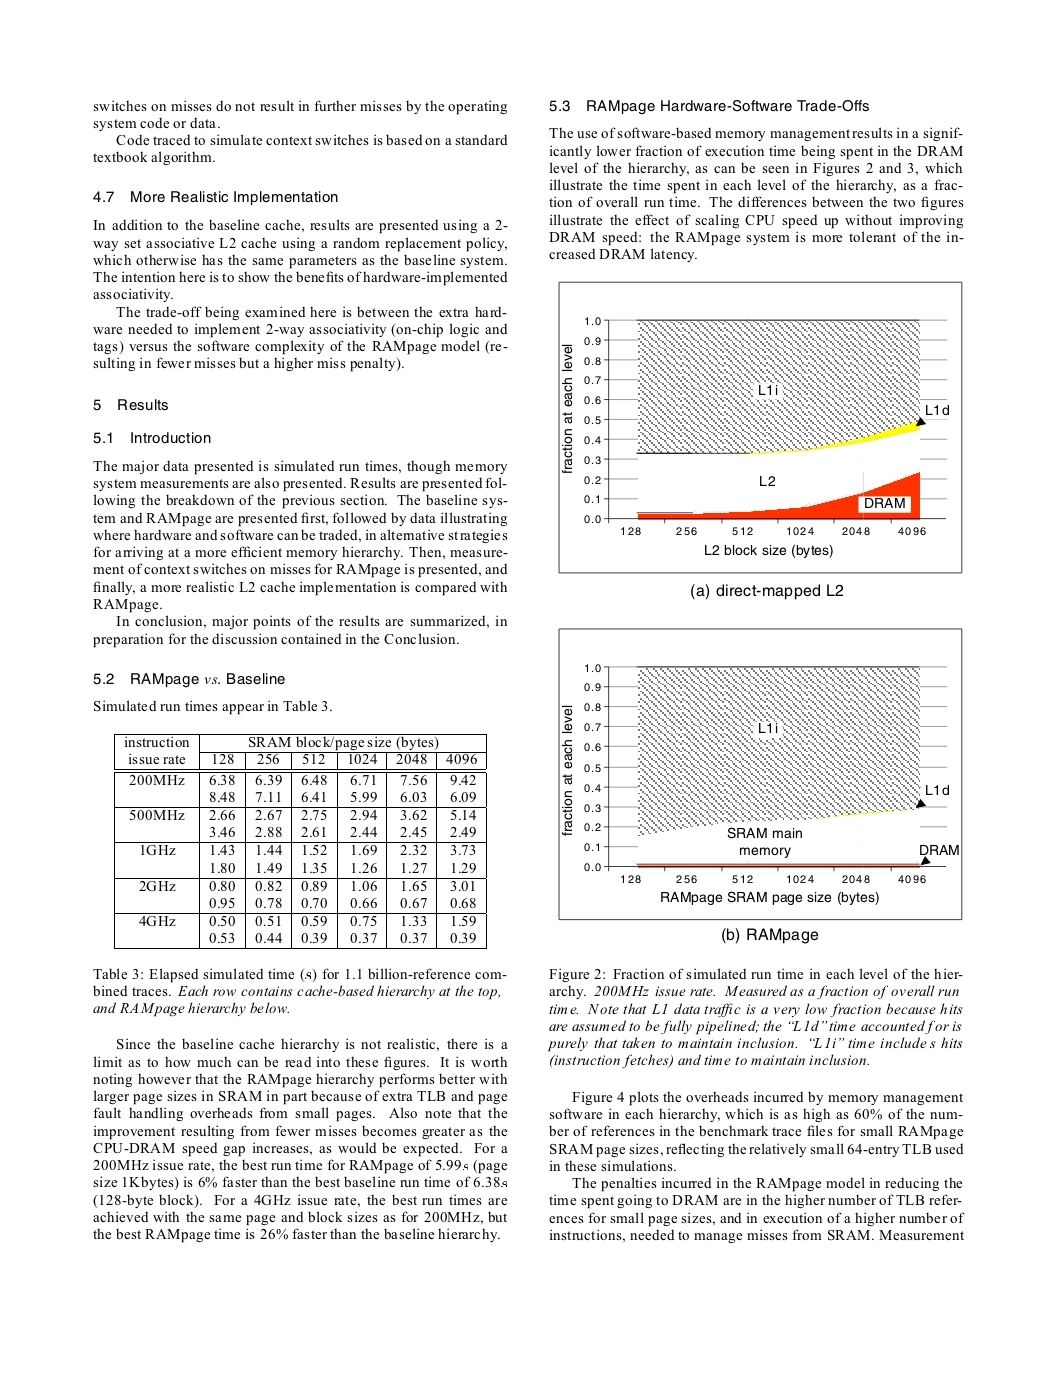Table: (114, 732, 486, 950)
figure: (558, 280, 962, 574), (558, 627, 962, 921)
